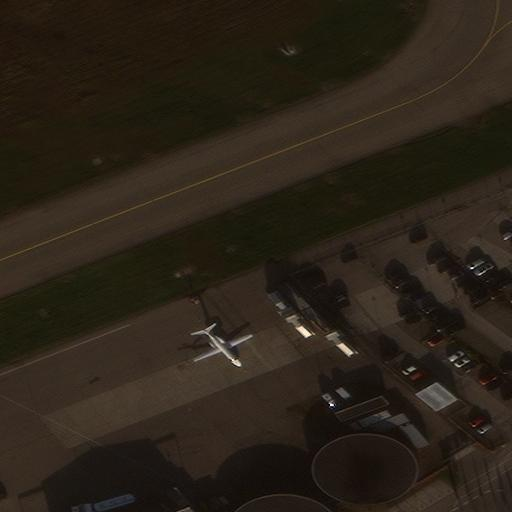Medium Civil Transport: (194, 328, 254, 367)
